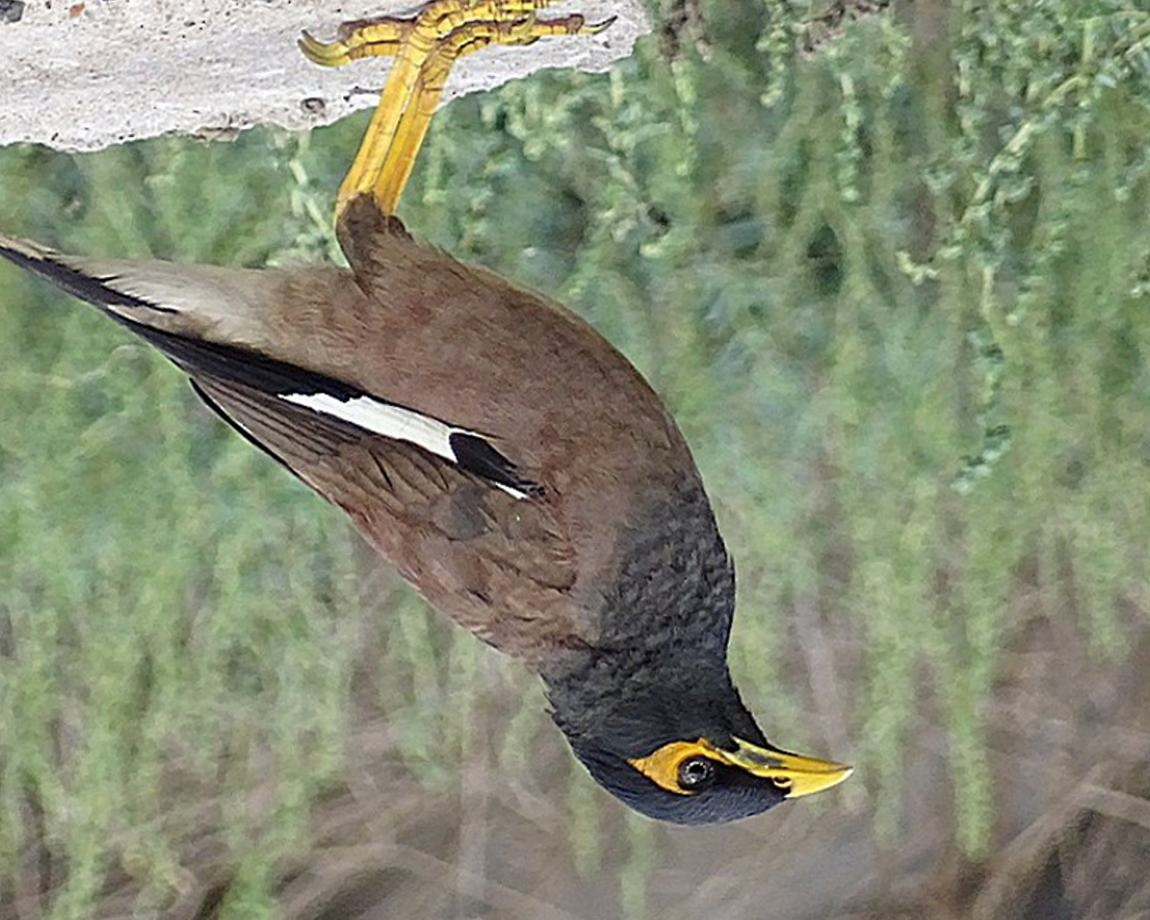myna: (109, 20, 862, 841)
